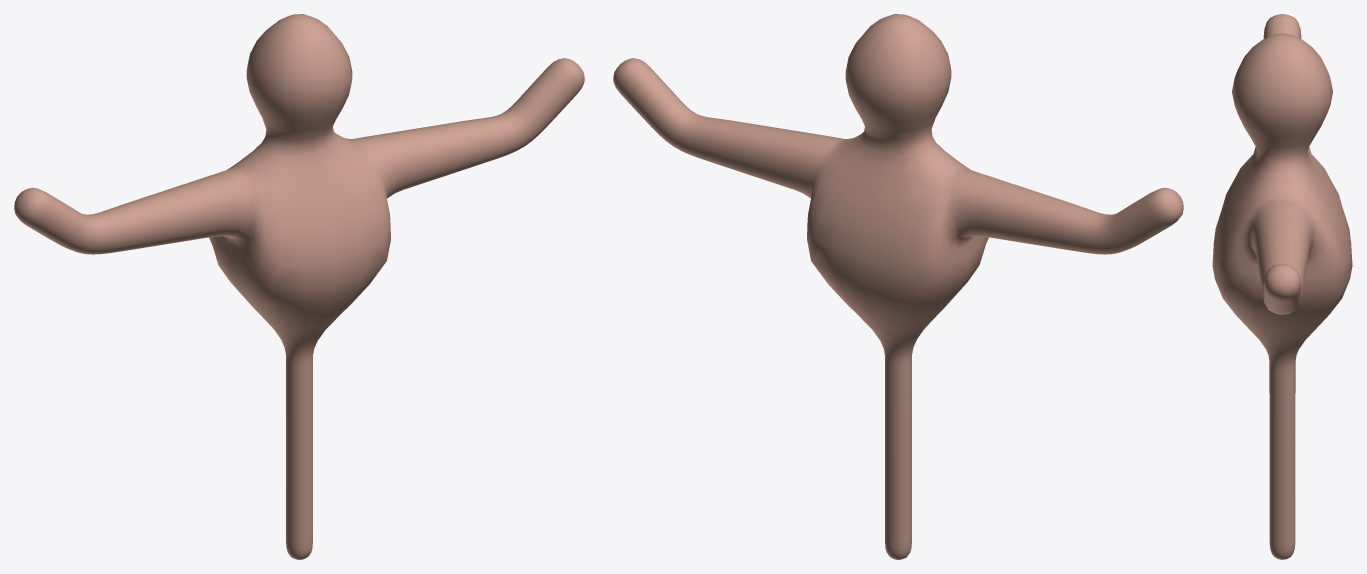
Rendered from Target.fbx.
3 renders of one model, left to right at view 1: azimuth 30°, elevation 25°; view 2: azimuth 150°, elevation 25°; view 3: azimuth 270°, elevation 25°, orthographic. The views are drawn at different scales.
Parts seen in each view (by area): view 1: Cube; view 2: Cube; view 3: Cube.
Part boxes in pixels (left/top/right/bottom): Cube: left=14, top=14, right=584, bottom=559; Cube: left=613, top=14, right=1183, bottom=559; Cube: left=1212, top=14, right=1352, bottom=559.
Size of the model in its own units: 7.89 by 7.23 by 1.76.
